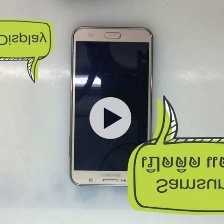phone: (65, 23, 157, 189)
